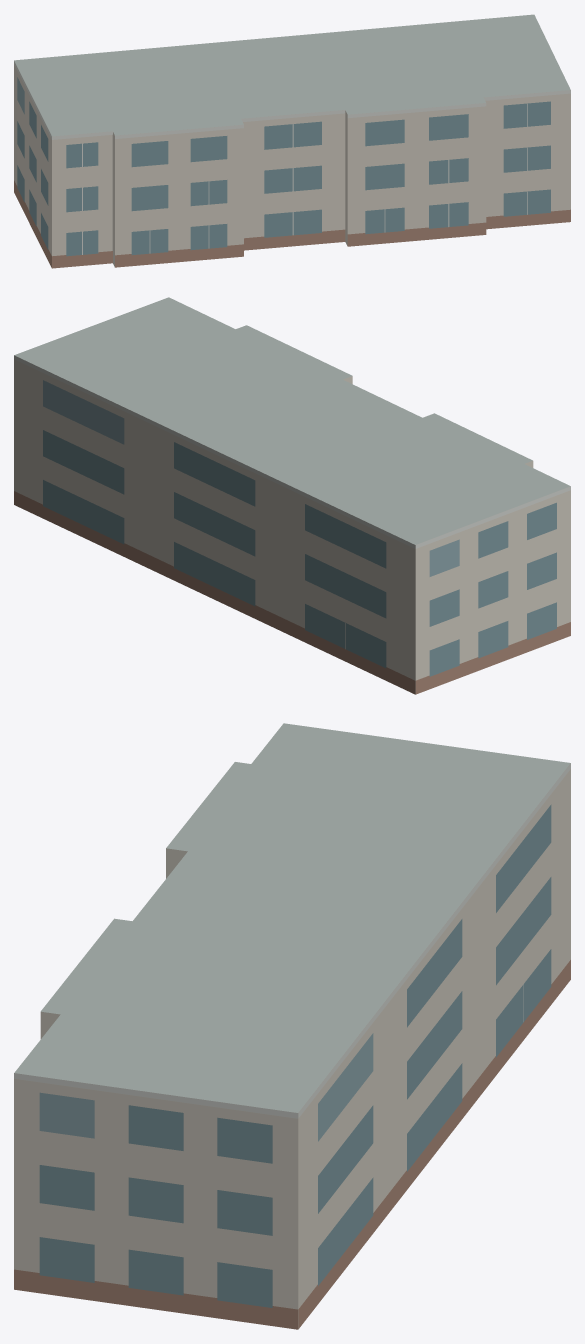
The model's file is survey-upis-32676479.glb.
3 renders of one model, top to bottom at view 1: azimuth 30°, elevation 25°; view 2: azimuth 150°, elevation 25°; view 3: azimuth 270°, elevation 25°, orthographic. The views are drawn at different scales.
Visible parts, largest first — view 1: survey-upis-32676479.tmp; view 2: survey-upis-32676479.tmp; view 3: survey-upis-32676479.tmp.
Part boxes in pixels (<box>): survey-upis-32676479.tmp: <box>14,14,570,268</box>; survey-upis-32676479.tmp: <box>14,297,570,694</box>; survey-upis-32676479.tmp: <box>14,723,570,1329</box>.
Bounding box in the file's own units: 35.33 × 9.15 × 21.33.
